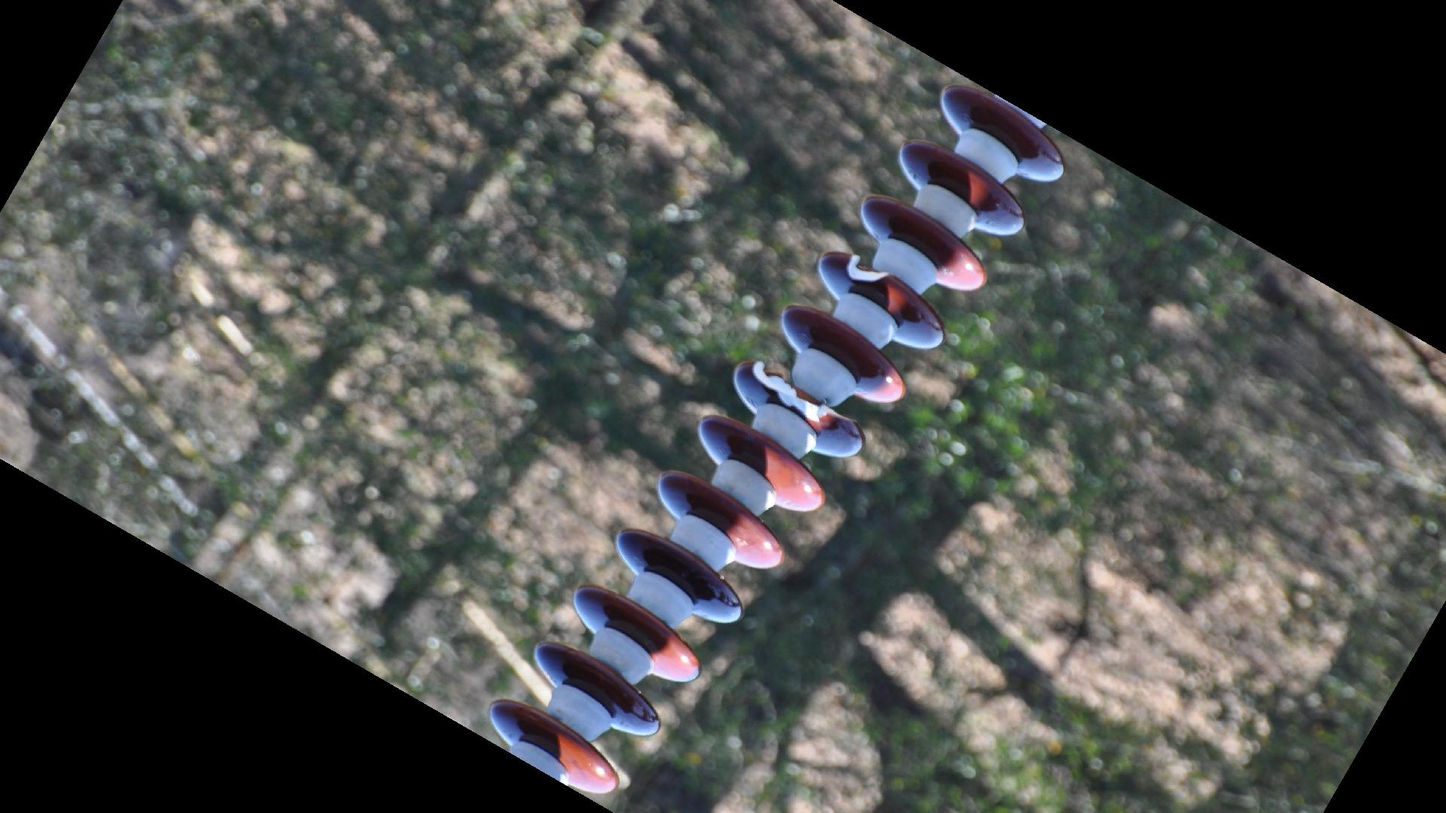insulator: (481, 78, 1075, 802)
insulator_breakage: (748, 355, 857, 436), (842, 247, 896, 291)
